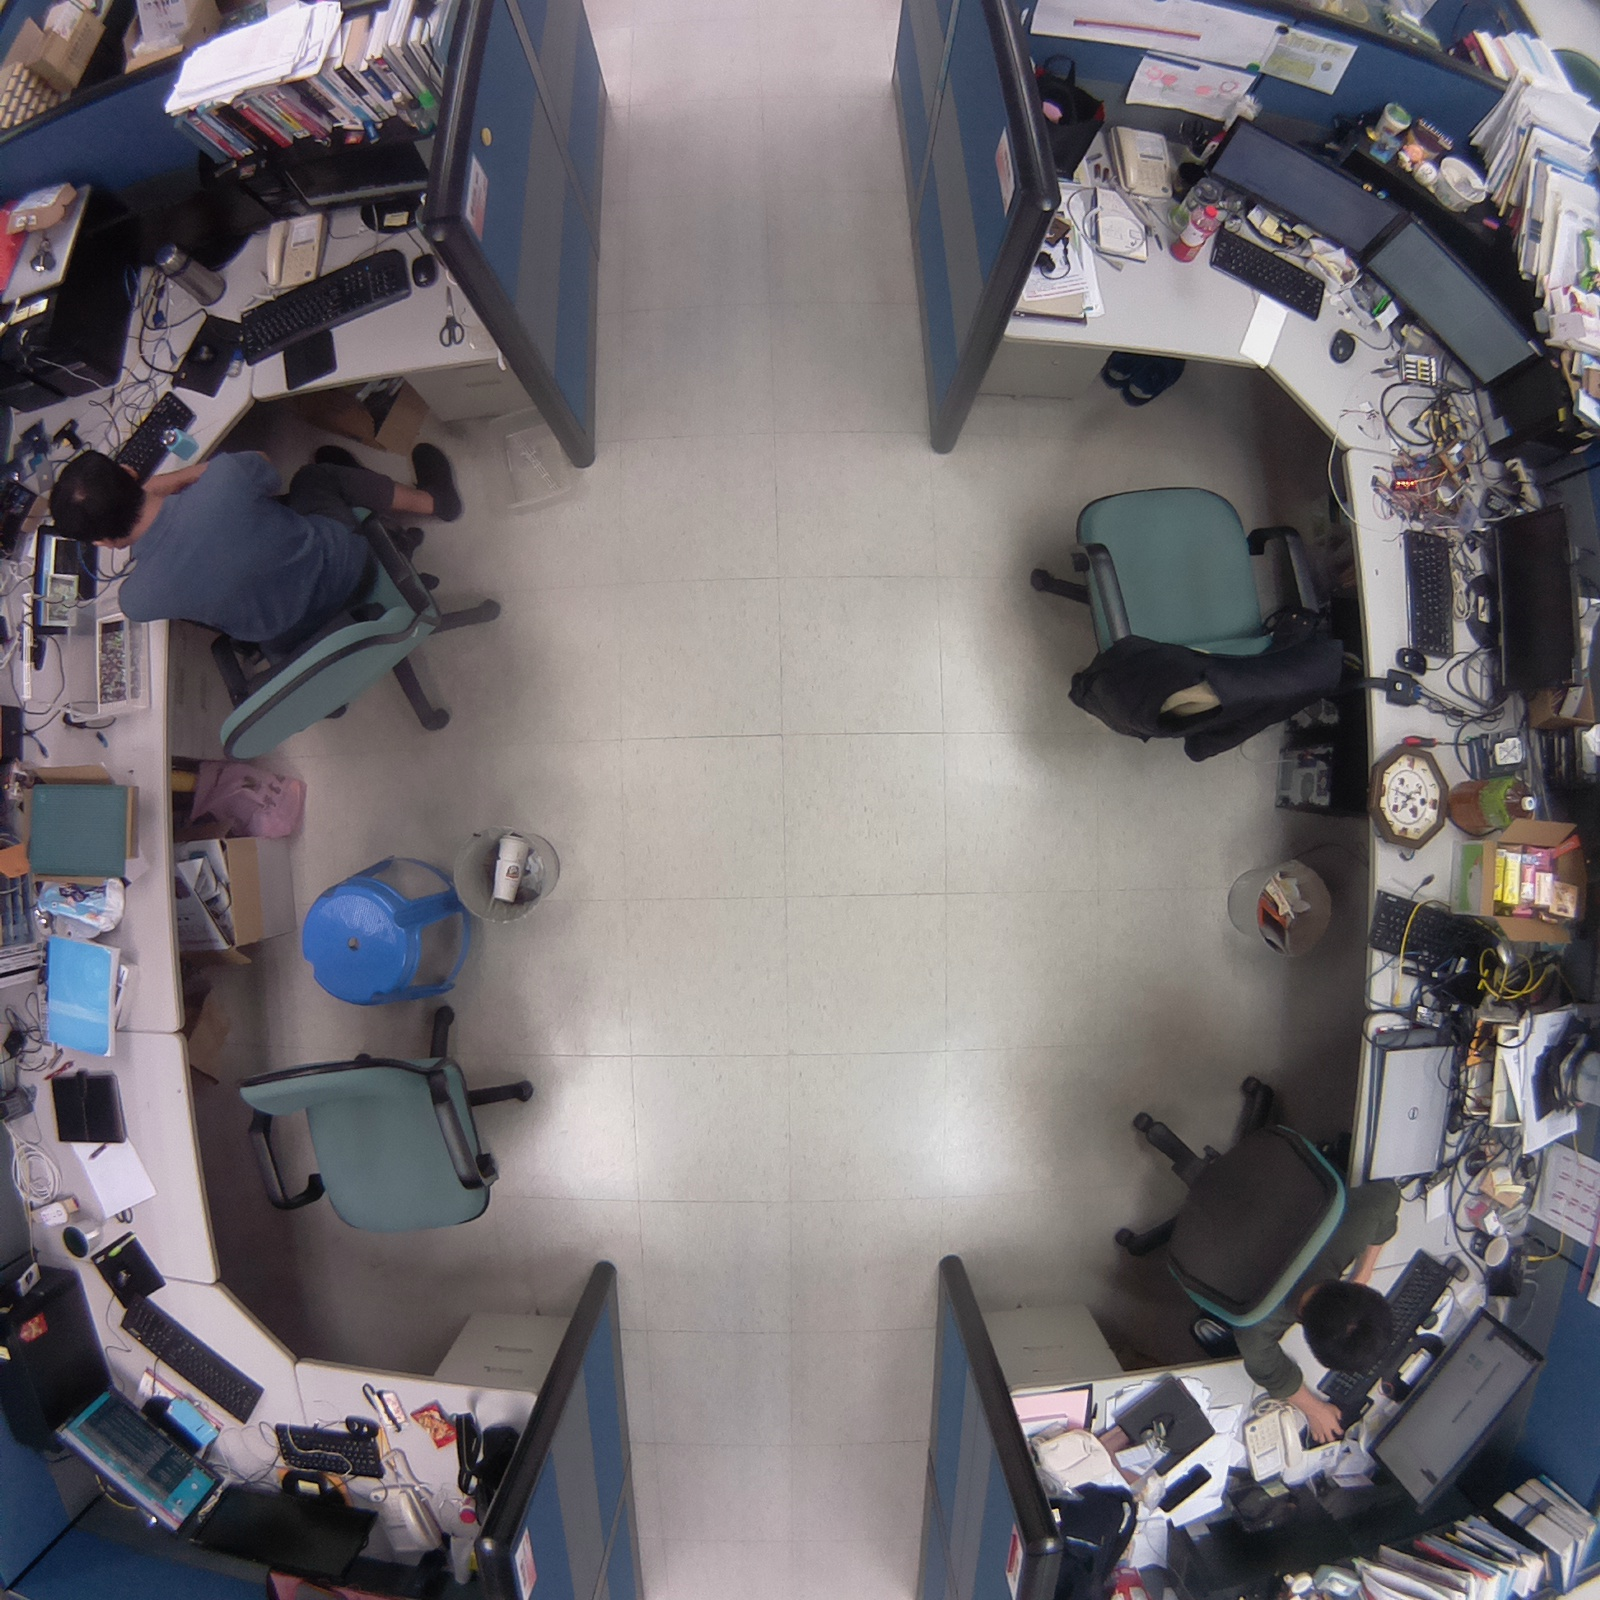chair: (1009, 458, 1368, 775), (229, 978, 553, 1255)
head: (35, 447, 154, 555), (1301, 1274, 1403, 1380)
sitting: (32, 406, 512, 773), (1094, 1060, 1409, 1452)
